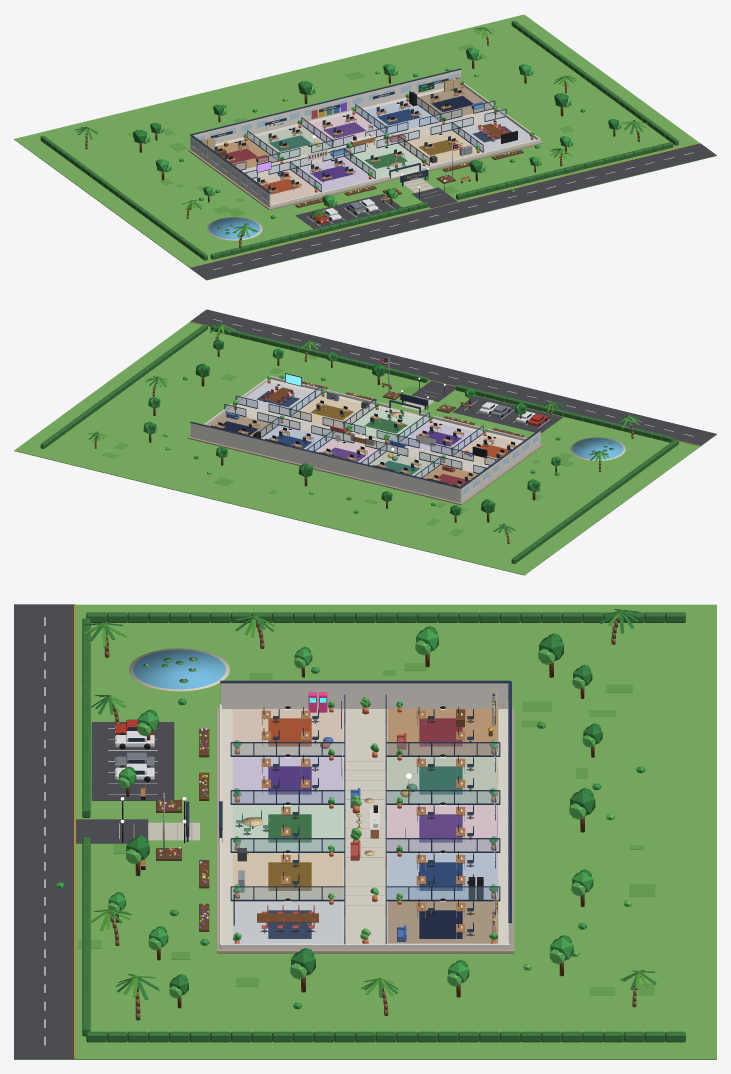
Rendered from office.glb.
The picture shows the model from 3 angles, top to bottom: view 1: azimuth 30°, elevation 25°; view 2: azimuth 150°, elevation 25°; view 3: azimuth 270°, elevation 25°; orthographic projection. The views are drawn at different scales.
Visible parts, largest first — view 1: Cube, G_Jalan, G_Pagar, G_Dinding, G_Aksen, G_Kaca, Cube.305, G_Daun2, Cube.032, G_Daun, G_Tepi, G_KacaTingkap (+23 smaller); view 2: Cube, G_Jalan, G_Dinding, G_Pagar, G_Kaca, G_Aksen, Cube.305, G_Daun2, G_Tepi, Cube.268, Cube.291, G_Rumput2 (+17 smaller); view 3: Cube, G_Jalan, G_Pagar, G_Kaca, G_Dinding, Cube.305, G_Aksen, Cube.032, G_Daun2, G_Daun3, Cube.268, G_Tepi (+37 smaller).
Boxes of the visible parts, x1,y1,x2,y2 form: Cube: (14, 14, 716, 280); G_Jalan: (190, 143, 716, 279); G_Pagar: (40, 21, 678, 260); G_Dinding: (190, 70, 540, 207); G_Aksen: (190, 68, 506, 193); G_Kaca: (234, 97, 505, 190); Cube.305: (241, 109, 503, 177); G_Daun2: (74, 27, 642, 235); Cube.032: (215, 88, 536, 204); G_Daun: (157, 47, 585, 218); G_Tepi: (188, 120, 542, 210); G_KacaTingkap: (192, 73, 458, 200); Cube: (14, 322, 716, 575); G_Jalan: (190, 309, 716, 446); G_Dinding: (190, 376, 540, 502); G_Pagar: (40, 324, 678, 563); G_Kaca: (225, 387, 496, 477); G_Aksen: (190, 386, 540, 488); Cube.305: (227, 404, 489, 472); G_Daun2: (88, 324, 641, 534); G_Tepi: (188, 390, 542, 505); Cube.268: (292, 394, 373, 428); Cube.291: (238, 381, 319, 415); G_Rumput2: (102, 354, 574, 535); Cube: (14, 604, 716, 1059); G_Jalan: (14, 604, 174, 1058); G_Pagar: (82, 612, 685, 1042); G_Kaca: (232, 743, 498, 899); G_Dinding: (219, 683, 511, 949); Cube.305: (346, 709, 384, 943); G_Aksen: (186, 680, 511, 944); Cube.032: (222, 709, 508, 943); G_Daun2: (83, 609, 656, 999); G_Daun3: (108, 640, 632, 998); Cube.268: (232, 853, 343, 899); G_Tepi: (119, 707, 514, 953).
Size of the model in its own units: 104 by 7.26 by 68.
